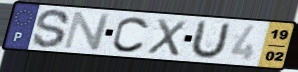4: (228, 24, 259, 63)
C: (111, 15, 152, 54)
N: (61, 11, 113, 51)
S: (31, 8, 73, 50)
U: (187, 19, 233, 61)
X: (145, 17, 189, 58)
